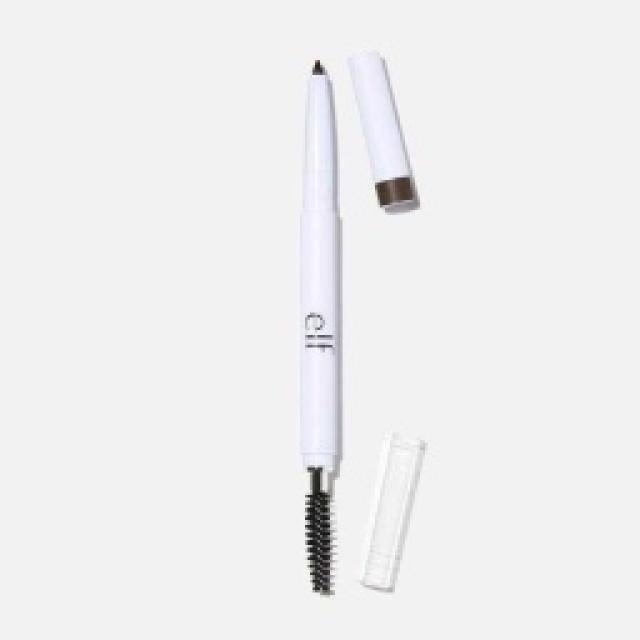pencil: (290, 45, 428, 600)
